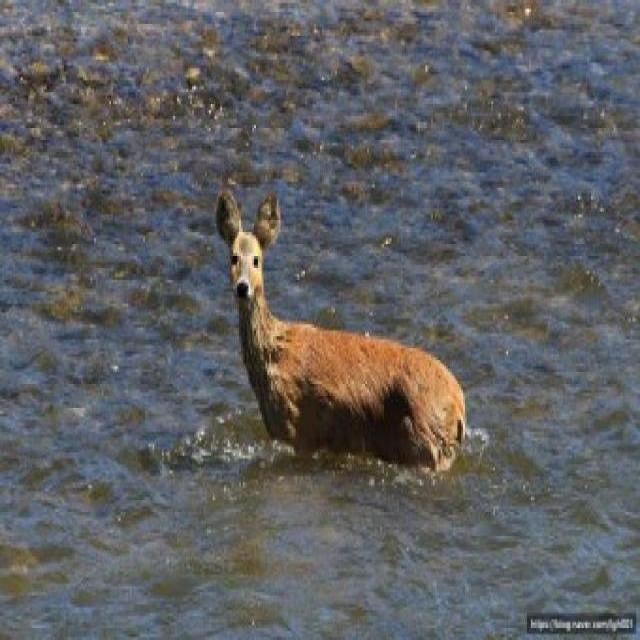deer: (211, 185, 492, 512)
